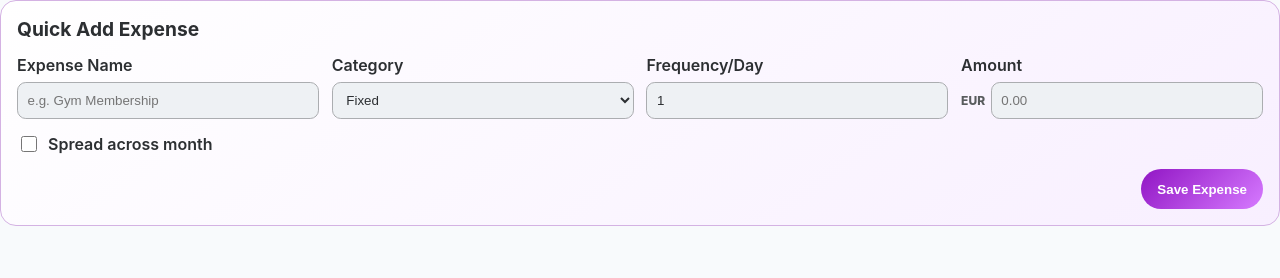
Test case: ExpenseForm › validates zero amount
In the field with test id "expense-name": (168, 100) [17,82,319,119], type "Rent"
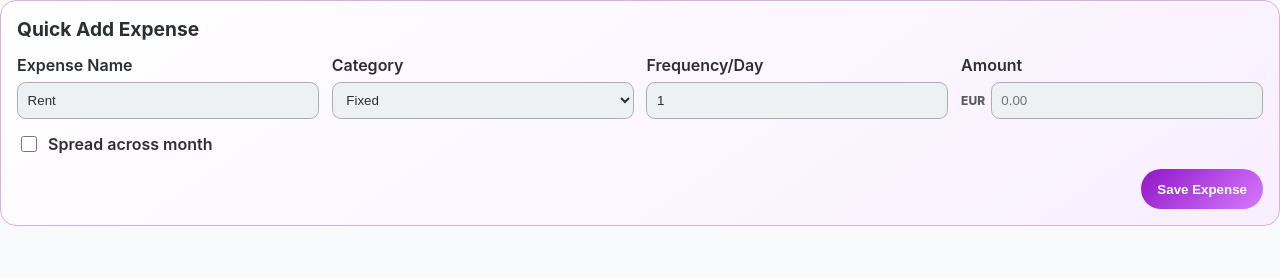
In the number field with test id "expense-amount": (1127, 100) [991,82,1263,119], type "0"
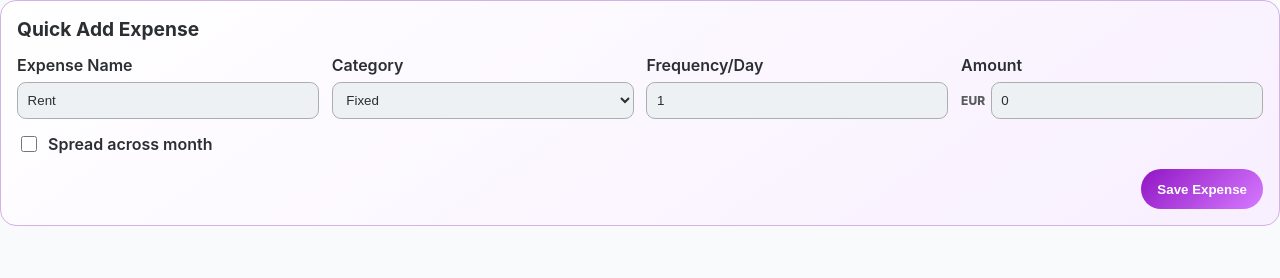
Click the button with test id "save-expense-button": (1202, 189) [1141,169,1263,209]
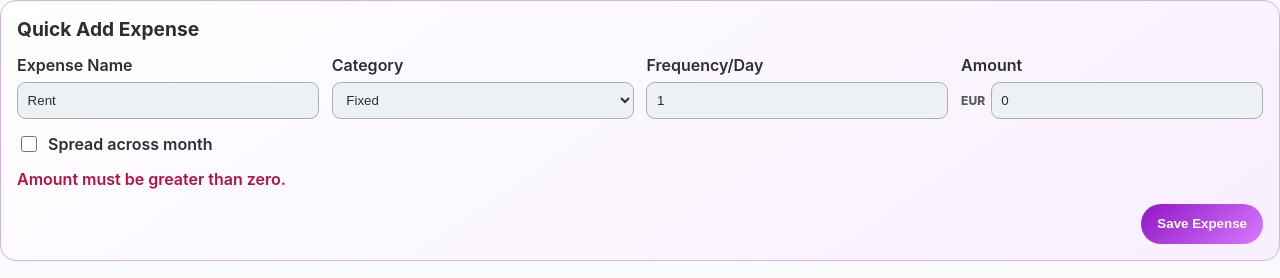
expect the text with test id "expense-form-error" reads "Amount must be greater than zero.": met, box [17,169,286,189]
